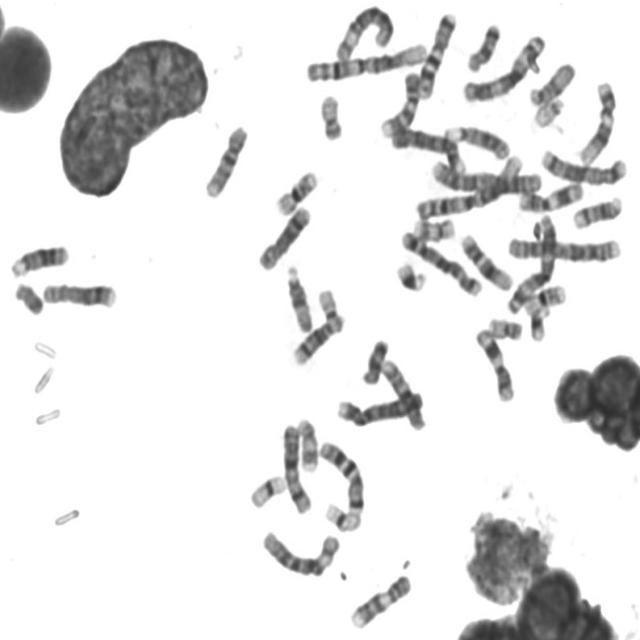A1: (412, 150, 530, 223), (300, 35, 430, 83)
A2: (425, 160, 545, 203), (503, 230, 624, 264)
A3: (458, 29, 548, 104), (503, 209, 559, 316)
B4: (386, 119, 468, 174), (332, 384, 426, 429)
B5: (396, 224, 484, 298), (536, 143, 628, 187)
C10: (200, 118, 250, 200), (377, 353, 428, 433)
C11: (472, 323, 516, 404), (514, 176, 585, 214)
C12: (575, 76, 619, 166), (456, 228, 515, 293)
C6: (258, 524, 342, 580), (330, 0, 395, 61)
C7: (314, 435, 366, 528), (414, 6, 458, 100)
C8: (254, 200, 313, 273), (38, 277, 118, 310)
C9: (346, 569, 413, 630), (377, 66, 422, 139)
D13: (442, 119, 512, 160), (6, 239, 71, 279)
D14: (289, 311, 346, 367), (568, 190, 625, 231)
D15: (525, 56, 578, 108), (282, 259, 314, 334)
E16: (271, 164, 320, 217), (521, 279, 568, 315)
E17: (293, 412, 320, 474), (409, 212, 457, 243)
E18: (462, 17, 503, 73), (358, 333, 391, 386)
F19: (245, 469, 288, 510), (320, 496, 362, 534)
F20: (316, 88, 344, 143), (484, 312, 524, 342)
G21: (392, 257, 429, 293), (524, 299, 550, 344)
G22: (314, 282, 345, 328), (528, 92, 566, 129)
X: (278, 418, 314, 515)
Y: (11, 276, 45, 316)
